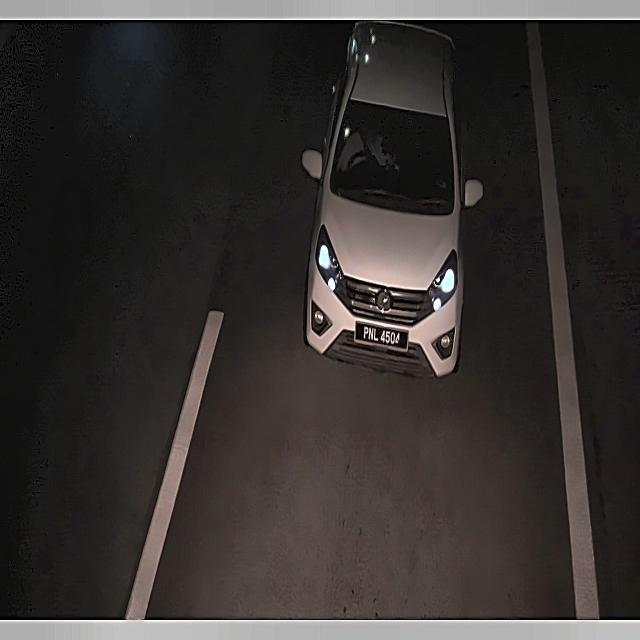car: (351, 313, 410, 356)
